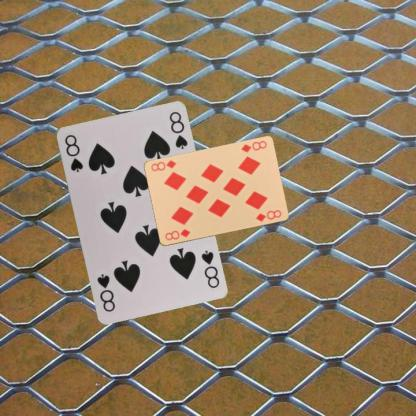8d: (162, 226, 192, 242), (238, 138, 268, 154)
8s: (198, 247, 221, 290), (62, 132, 84, 173)
